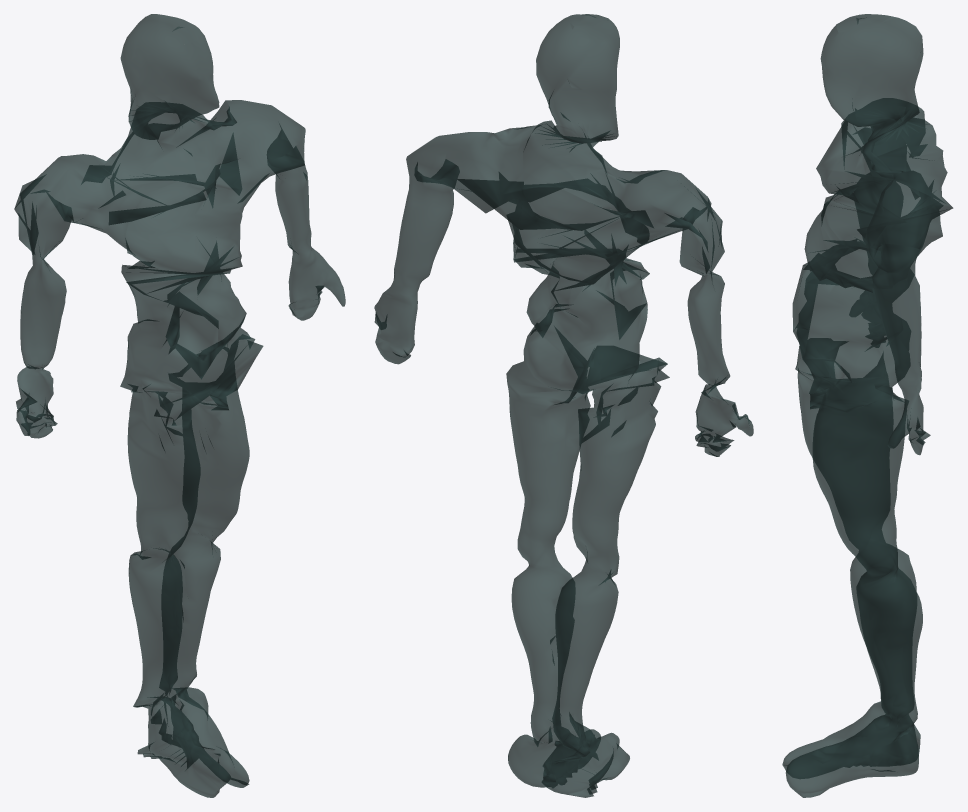
Rendered from Zombie.obj.
3 renders of one model, left to right at view 1: azimuth 30°, elevation 25°; view 2: azimuth 150°, elevation 25°; view 3: azimuth 270°, elevation 25°, orthographic. The views are drawn at different scales.
Visible parts, largest first — view 1: mage; view 2: mage; view 3: mage.
Part boxes in pixels (bbox=[...]): mage: bbox=[14, 14, 345, 797]; mage: bbox=[374, 14, 753, 797]; mage: bbox=[782, 14, 953, 797].
Bounding box in the file's own units: 56.62 × 118 × 24.16.
